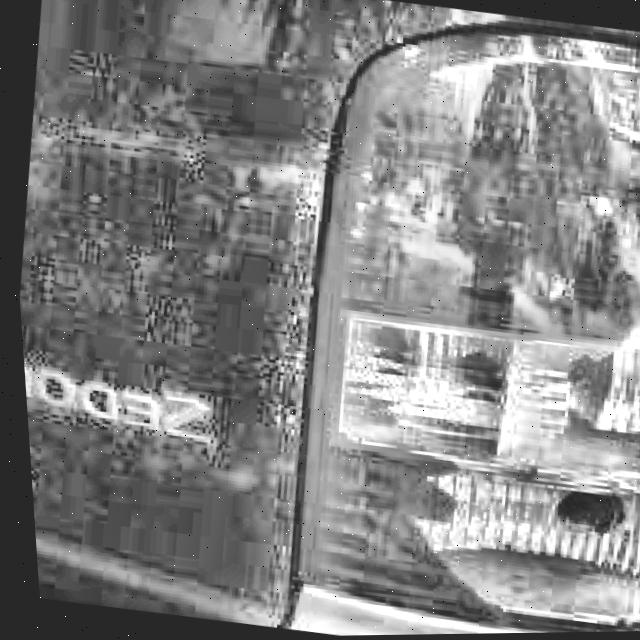tail_lamp: (383, 427, 640, 632)
